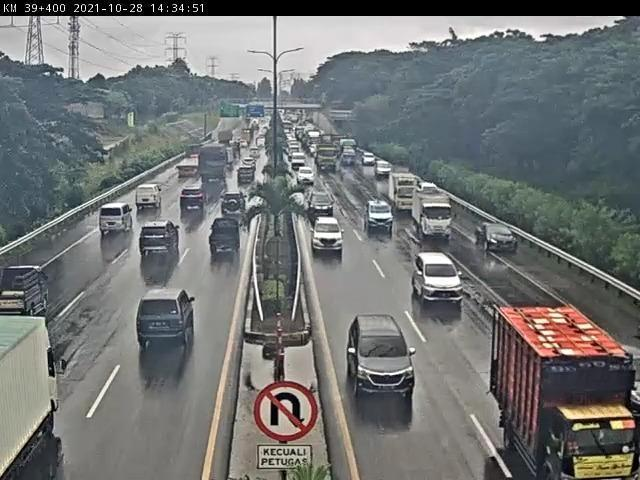car: (347, 311, 420, 397), (132, 287, 194, 352), (413, 252, 466, 311), (1, 265, 55, 321), (610, 336, 640, 412), (136, 222, 183, 261), (473, 219, 518, 255), (314, 209, 345, 254), (98, 201, 133, 237), (207, 217, 240, 254), (131, 182, 163, 217), (177, 183, 206, 219), (364, 197, 390, 235), (224, 195, 246, 223), (312, 187, 332, 212), (297, 168, 317, 186), (375, 161, 391, 177), (295, 154, 308, 173), (241, 170, 254, 188), (250, 148, 262, 162), (245, 160, 257, 174), (366, 152, 374, 166)
truck: (487, 300, 640, 480), (3, 306, 65, 480), (410, 187, 457, 244), (198, 149, 229, 183), (391, 176, 424, 207), (318, 150, 340, 173)
